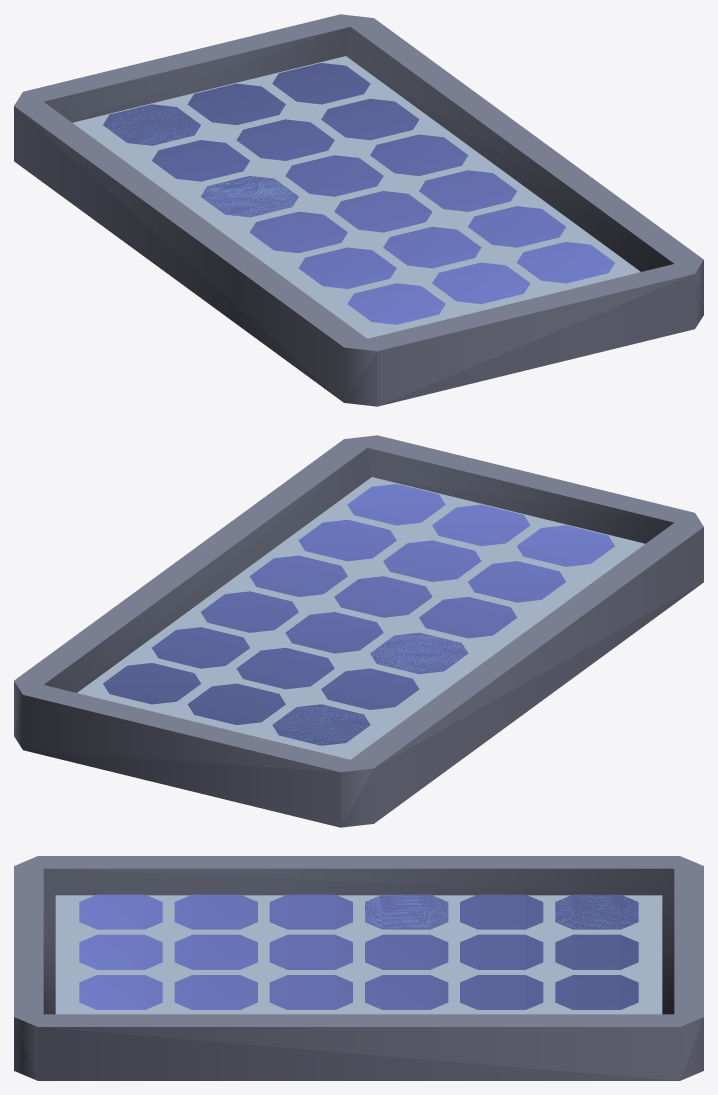
The model's file is solar-panel-flat.obj.
The picture shows the model from 3 angles, top to bottom: view 1: azimuth 30°, elevation 25°; view 2: azimuth 150°, elevation 25°; view 3: azimuth 270°, elevation 25°; orthographic projection. The views are drawn at different scales.
Size of the model in its own units: 0.4182 by 0.0615 by 0.7134.
